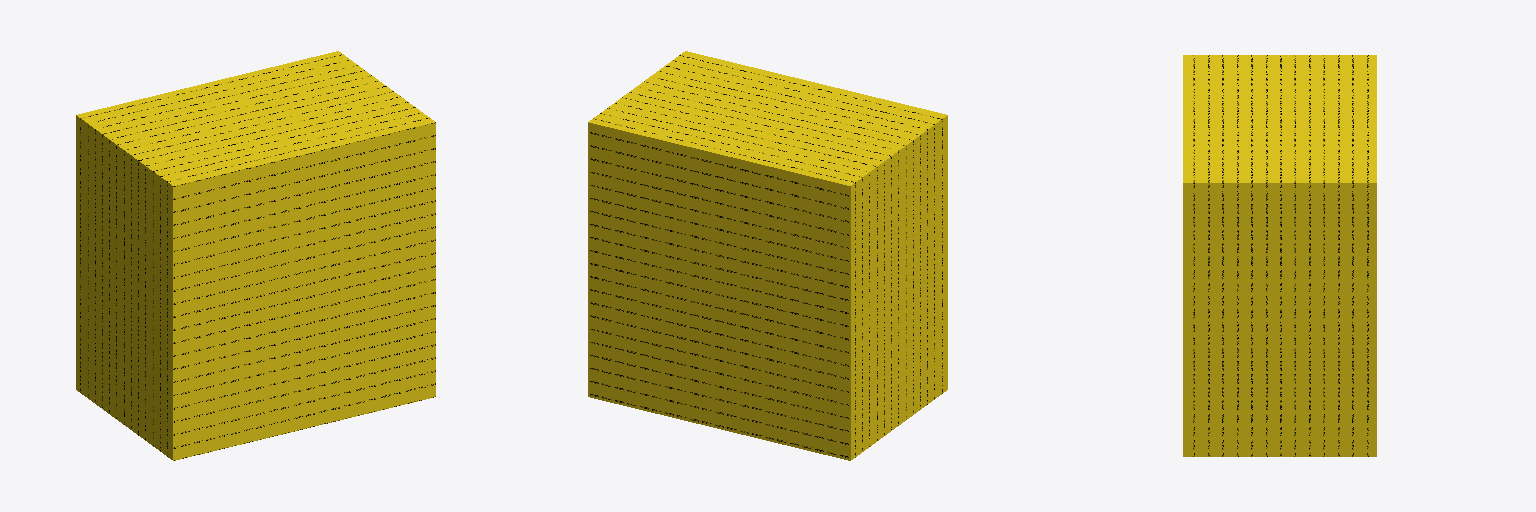
3 views of the same model, side by side, from view 1: azimuth 30°, elevation 25°; view 2: azimuth 150°, elevation 25°; view 3: azimuth 270°, elevation 25° (orthographic).
Visible parts, largest first — view 1: 41, 33, 36, 2, 35; view 2: 2, 33, 36, 41, 35; view 3: 34, 33, 41, 2.
Part boxes in pixels (x1,y1,x2,y2): 41: (171, 121, 435, 460); 33: (77, 52, 433, 190); 36: (77, 123, 170, 451); 2: (76, 51, 338, 389); 35: (77, 384, 170, 458); 2: (588, 121, 851, 460); 33: (590, 53, 945, 190); 36: (852, 123, 945, 452); 41: (683, 51, 947, 390); 35: (852, 385, 945, 459); 34: (1187, 189, 1374, 456); 33: (1187, 55, 1374, 188); 41: (1183, 55, 1186, 456); 2: (1375, 55, 1376, 456).
Size of the model in its own units: 336 by 336 by 216.
11 materials, 11 textured.